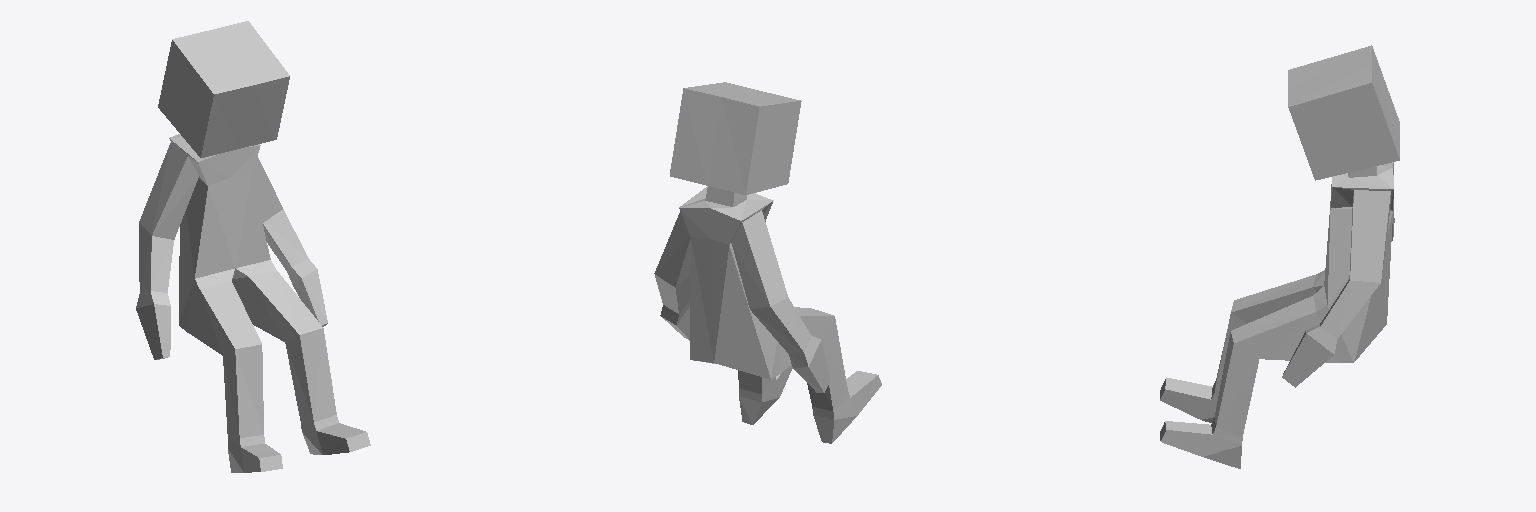
The model's file is sitting.obj.
The picture shows the model from 3 angles: view 1: azimuth 30°, elevation 25°; view 2: azimuth 150°, elevation 25°; view 3: azimuth 270°, elevation 25°; orthographic projection.
Parts seen in each view (by area): view 1: Proxy; view 2: Proxy; view 3: Proxy.
Part boxes in pixels (left/top/right/bottom): Proxy: left=136, top=21, right=370, bottom=472; Proxy: left=654, top=82, right=881, bottom=443; Proxy: left=1160, top=45, right=1399, bottom=468.
Bounding box in the file's own units: 21.73 × 49.67 × 28.17.